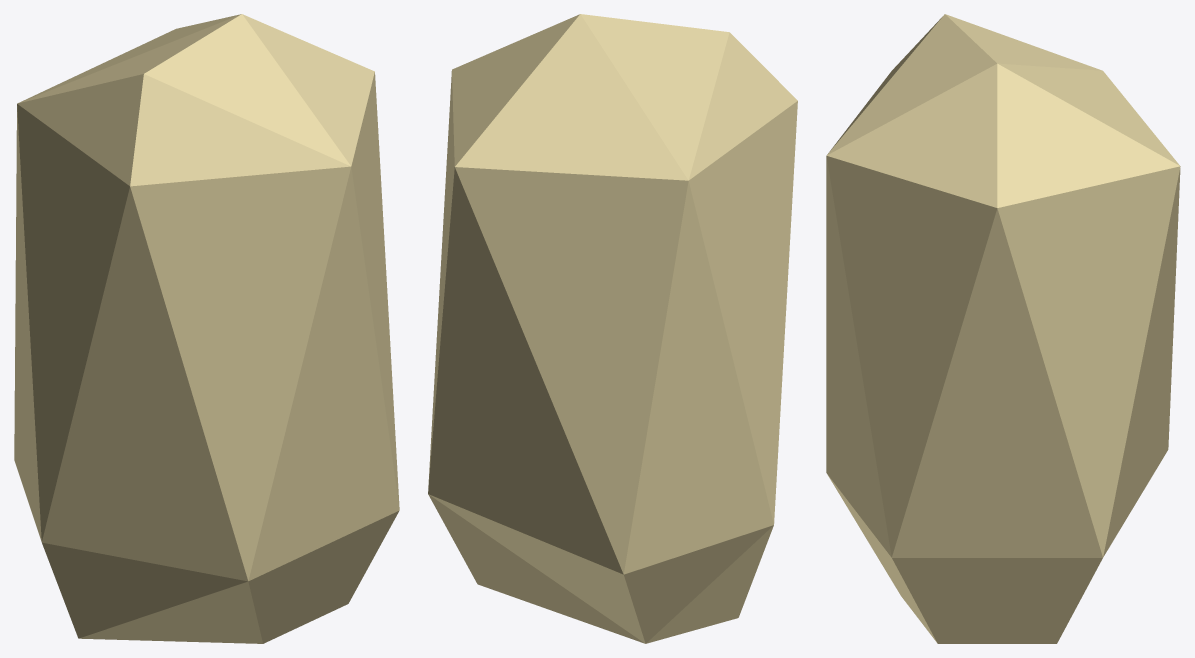
File: rock8.fbx
3 views of the same model, side by side, from view 1: azimuth 30°, elevation 25°; view 2: azimuth 150°, elevation 25°; view 3: azimuth 270°, elevation 25° (orthographic). The views are drawn at different scales.
Visible parts, largest first — view 1: Icosphere; view 2: Icosphere; view 3: Icosphere.
Boxes of the visible parts, x1,y1,x2,y2 form: Icosphere: [14, 14, 399, 643]; Icosphere: [428, 14, 797, 643]; Icosphere: [826, 14, 1180, 643].
Size of the model in its own units: 179 by 300 by 176.
